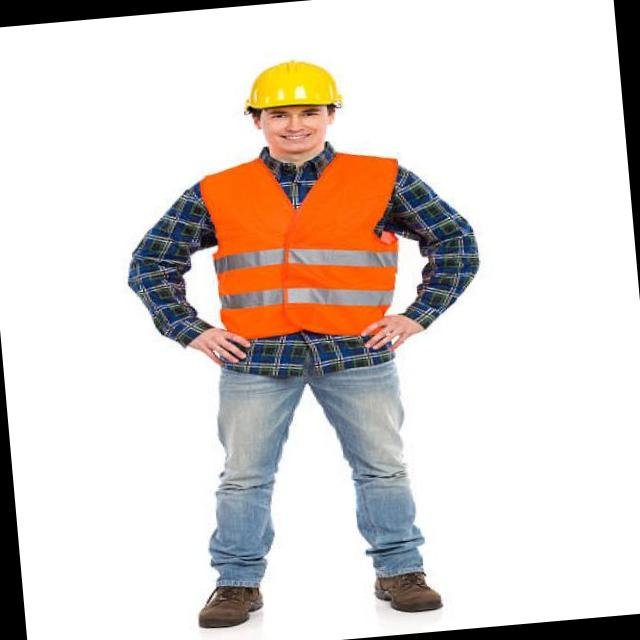Helmet: (230, 41, 364, 120)
Vest: (204, 137, 410, 350)
